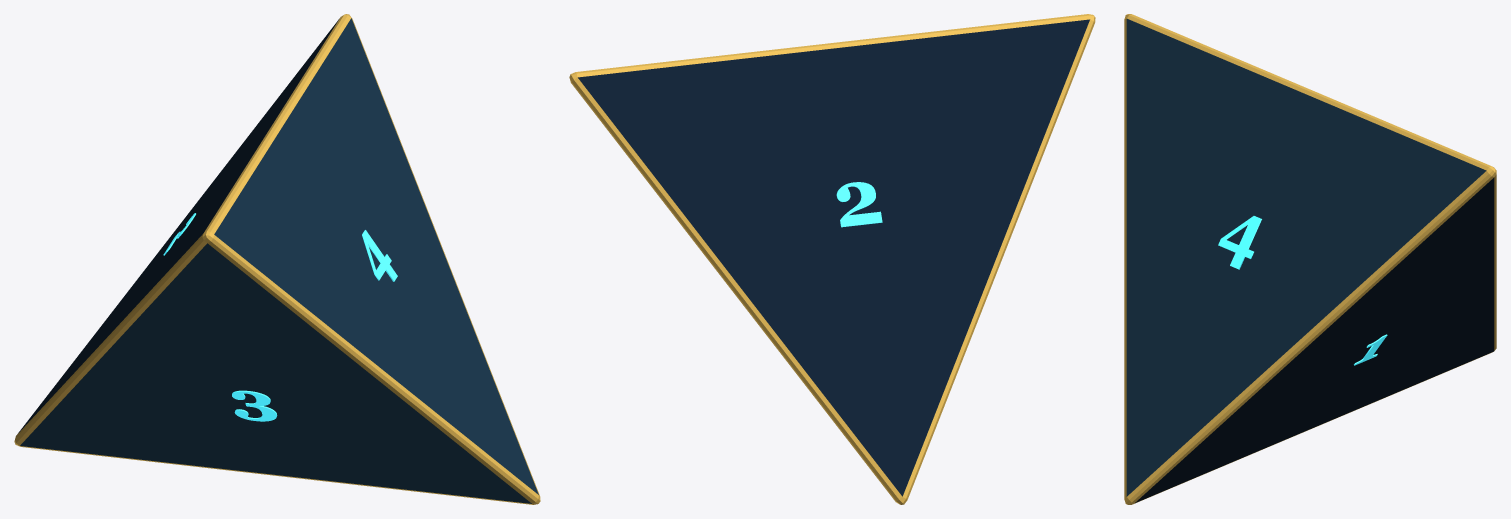
File: d4_leo.glb
3 views of the same model, side by side, from view 1: azimuth 30°, elevation 25°; view 2: azimuth 150°, elevation 25°; view 3: azimuth 270°, elevation 25° (orthographic). The views are drawn at different scales.
Parts seen in each view (by area): view 1: DiceBody, Number_03, Number_04; view 2: DiceBody, Number_02; view 3: DiceBody, Number_04.
Part boxes in pixels (left/top/right/bottom): DiceBody: left=14, top=14, right=540, bottom=504; Number_03: left=232, top=390, right=277, bottom=421; Number_04: left=362, top=230, right=397, bottom=281; DiceBody: left=569, top=14, right=1095, bottom=504; Number_02: left=836, top=182, right=882, bottom=227; DiceBody: left=1124, top=14, right=1496, bottom=504; Number_04: left=1218, top=216, right=1261, bottom=269.
Bounding box in the file's own units: 2.25 × 2.25 × 2.25.
